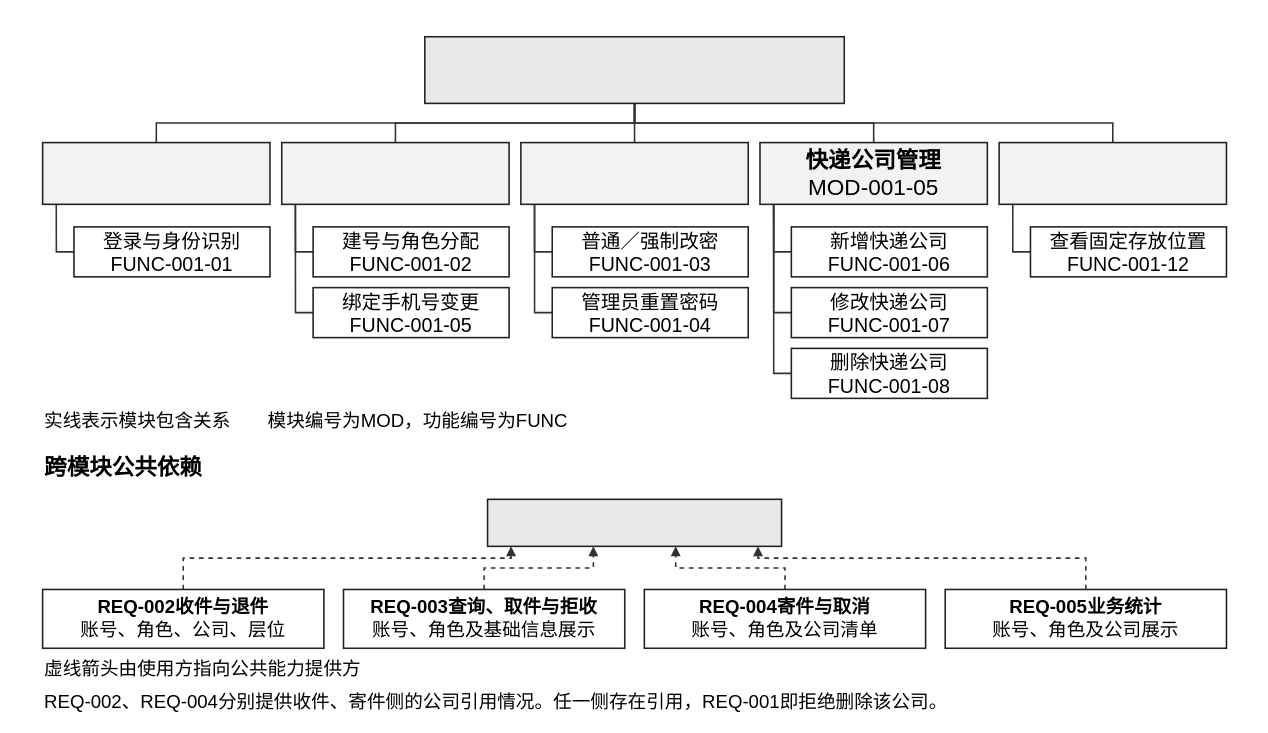
Some shapes in this 1268 by 733 pixel diagram are drawn without their labels. Each missing label, with the centre of its shape:
"REQ-001公共框架与系统集成 MOD-001-01" goes at point 634,69.
"REQ-001公共能力" goes at point 634,522.
"固定存放位置 MOD-001-06" goes at point 1112,173.
"密码管理 MOD-001-04" goes at point 634,173.
"登录与角色权限 MOD-001-02" goes at point 155,173.
"账号管理 MOD-001-03" goes at point 394,173.
